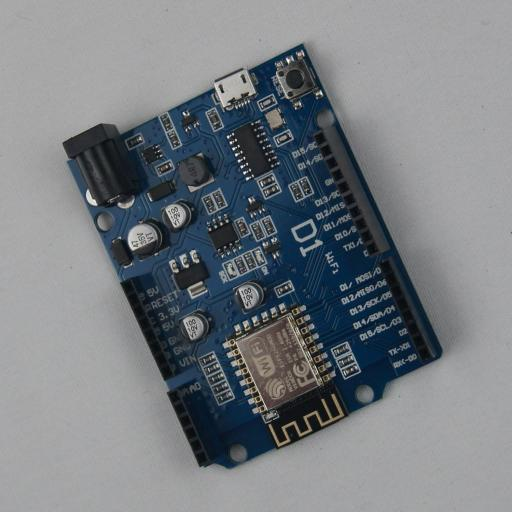Arduino Uno WiFi Shield: (62, 44, 444, 470)
